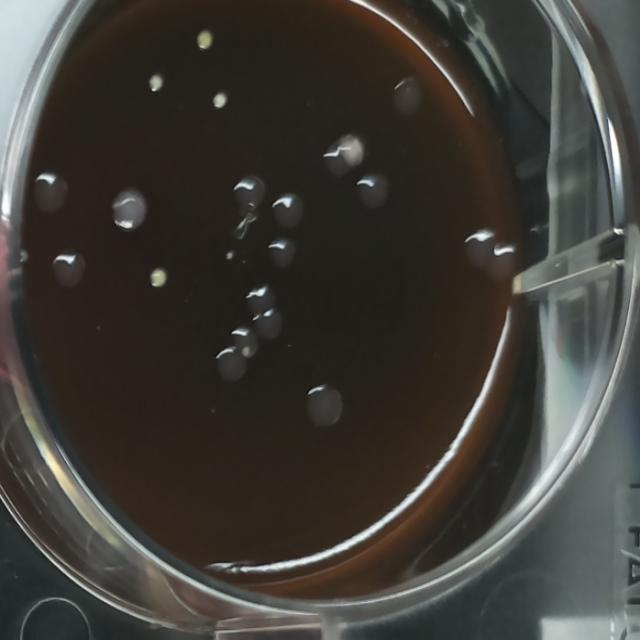Pseudoalteromonas: (110, 184, 151, 233)
Staphylococcus: (146, 264, 170, 292), (194, 27, 216, 52), (146, 70, 166, 96), (211, 89, 230, 113), (223, 248, 236, 264), (240, 344, 251, 359)
Vagococcus: (390, 70, 426, 120)
